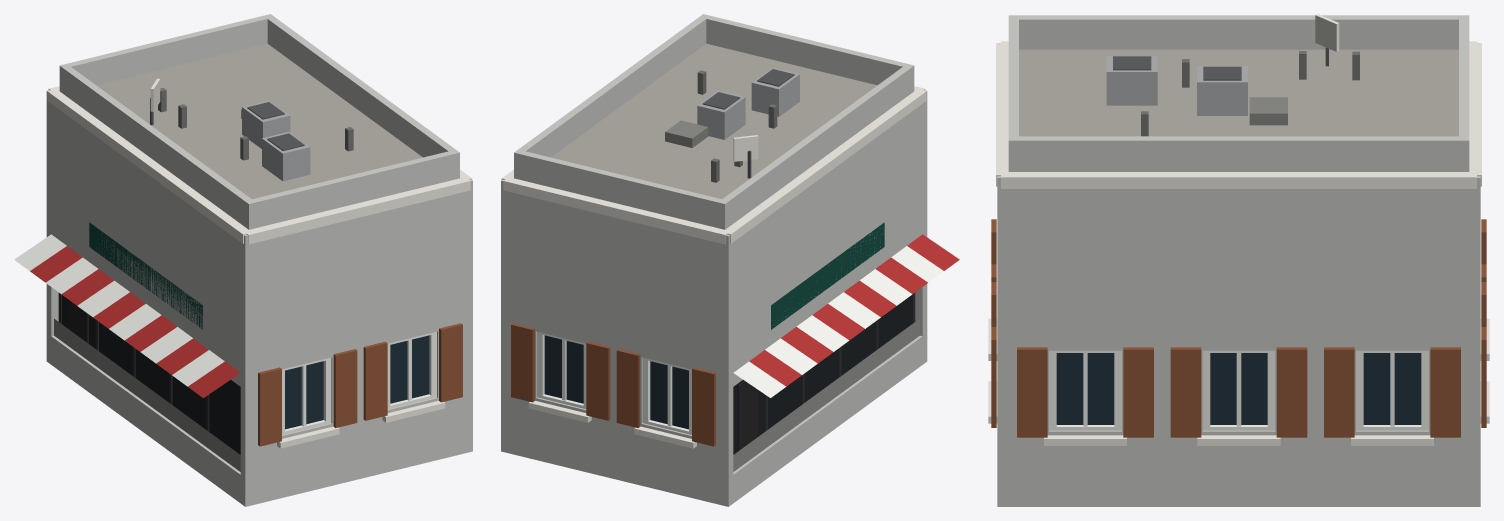
3 views of the same model, side by side, from view 1: azimuth 30°, elevation 25°; view 2: azimuth 150°, elevation 25°; view 3: azimuth 270°, elevation 25° (orthographic). The views are drawn at different scales.
Parts seen in each view (by area): view 1: b9969_opaque, b9969_glass; view 2: b9969_opaque, b9969_glass; view 3: b9969_opaque, b9969_glass.
Boxes of the visible parts, bbox=[...] form: b9969_opaque: bbox=[14, 14, 472, 506]; b9969_glass: bbox=[62, 295, 429, 454]; b9969_opaque: bbox=[501, 14, 959, 506]; b9969_glass: bbox=[544, 295, 911, 454]; b9969_opaque: bbox=[988, 14, 1489, 506]; b9969_glass: bbox=[1056, 353, 1421, 424].
Bounding box in the file's own units: 2979 × 3282 × 3924.
